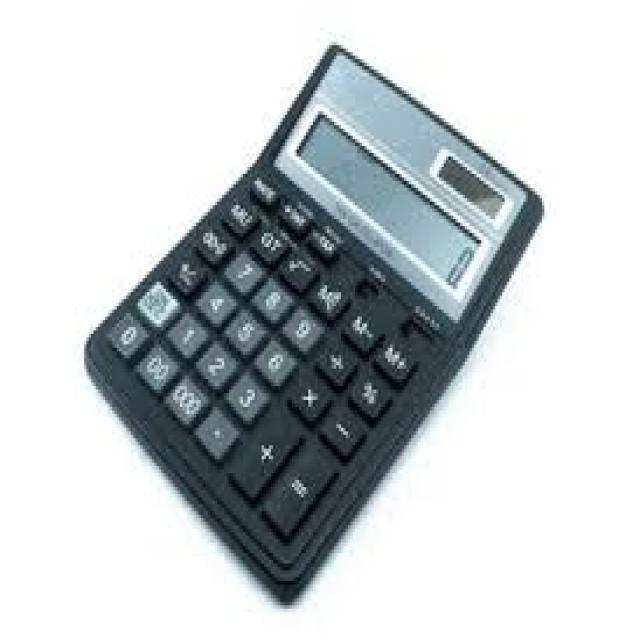Calculator: (81, 44, 546, 609)
